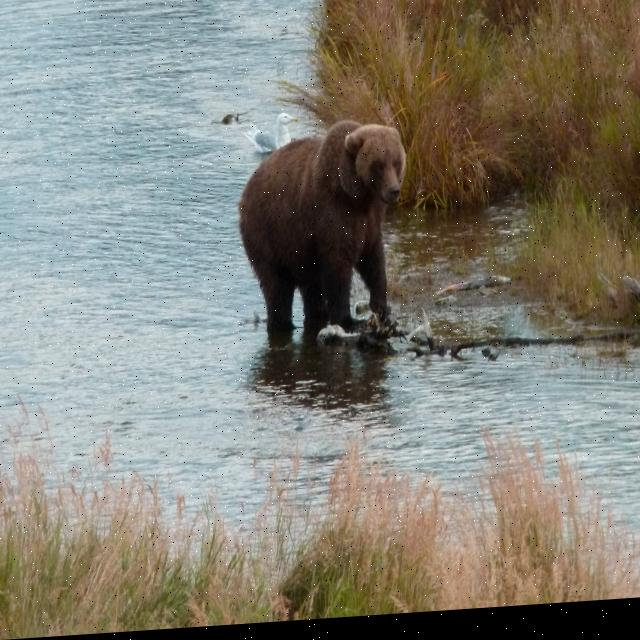bear face: (238, 131, 408, 342)
